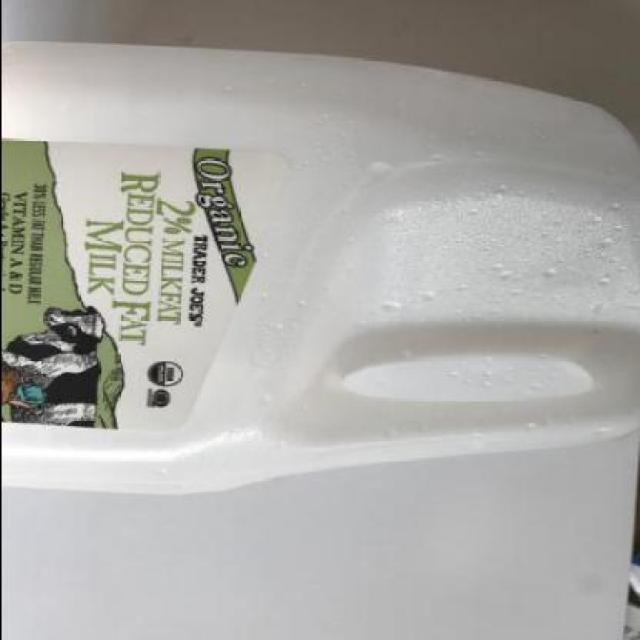PLASTIC: (1, 43, 638, 497)
